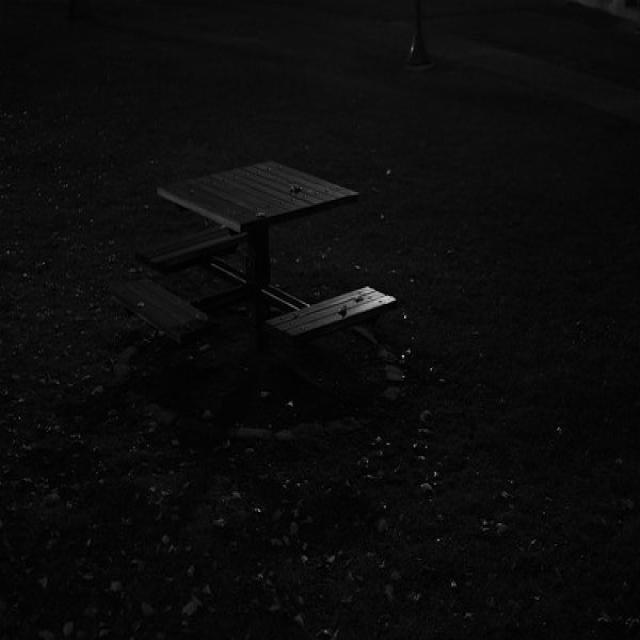Table: (156, 146, 369, 269)
chair: (255, 262, 419, 387), (77, 264, 211, 377), (143, 200, 261, 294)
